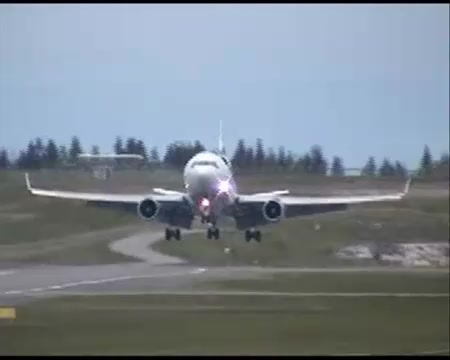aeroplane: (24, 121, 412, 243)
